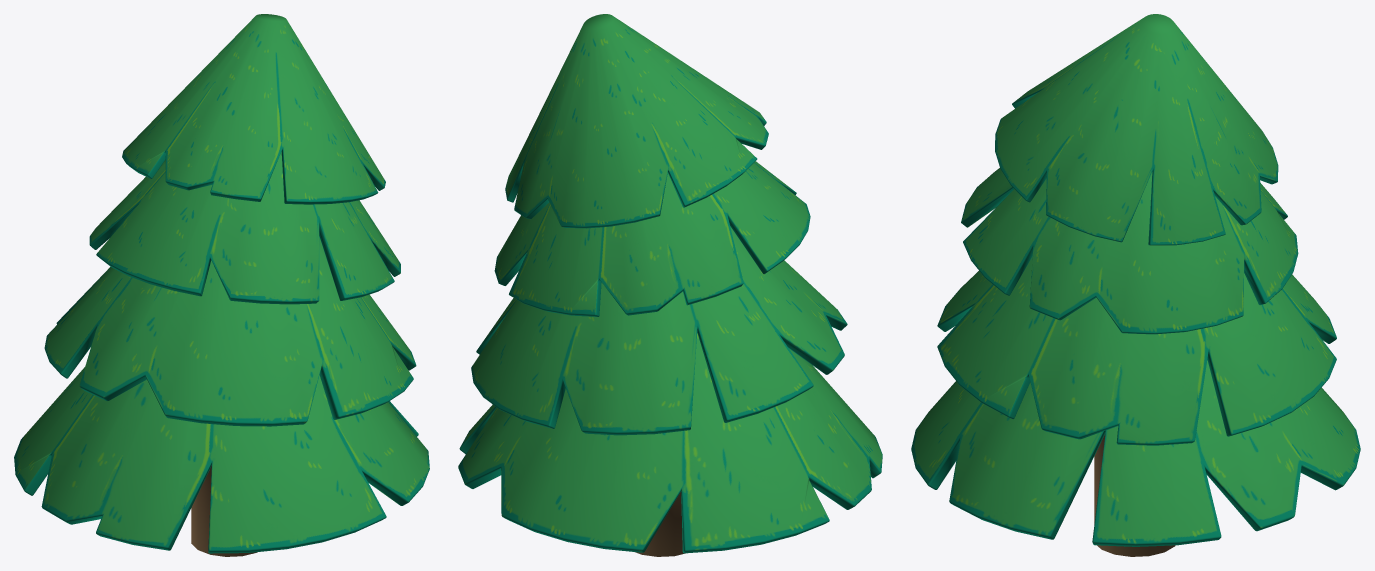
The model's file is bpw_boom_v2.fbx.
The picture shows the model from 3 angles, left to right: view 1: azimuth 30°, elevation 25°; view 2: azimuth 150°, elevation 25°; view 3: azimuth 270°, elevation 25°; orthographic projection. The views are drawn at different scales.
Visible parts, largest first — view 1: Cylinder, Cylinder.001, Cylinder.003, Cylinder.002, Cylinder.005; view 2: Cylinder, Cylinder.001, Cylinder.003, Cylinder.002, Cylinder.005; view 3: Cylinder.001, Cylinder, Cylinder.003, Cylinder.002, Cylinder.005.
Part boxes in pixels (x1=…): Cylinder: x1=14, y1=367, x2=429, y2=553; Cylinder.001: x1=44, y1=237, x2=416, y2=426; Cylinder.003: x1=122, y1=14, x2=385, y2=204; Cylinder.002: x1=89, y1=152, x2=400, y2=304; Cylinder.005: x1=191, y1=465, x2=257, y2=556; Cylinder: x1=458, y1=333, x2=882, y2=553; Cylinder.001: x1=471, y1=226, x2=847, y2=435; Cylinder.003: x1=505, y1=14, x2=768, y2=228; Cylinder.002: x1=494, y1=161, x2=810, y2=316; Cylinder.005: x1=635, y1=492, x2=685, y2=556; Cylinder.001: x1=937, y1=257, x2=1336, y2=445; Cylinder: x1=911, y1=360, x2=1360, y2=546; Cylinder.003: x1=995, y1=14, x2=1278, y2=245; Cylinder.002: x1=961, y1=168, x2=1298, y2=334; Cylinder.005: x1=1094, y1=433, x2=1175, y2=556.
Size of the model in its own units: 258 by 346 by 259.
